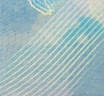hologram: (1, 1, 103, 96)
